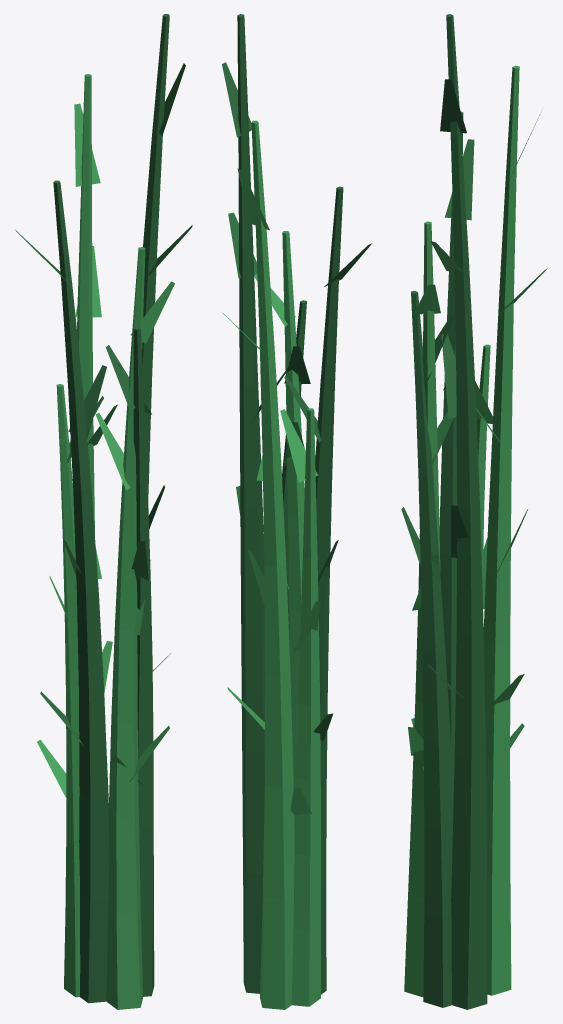
The model's file is kelp.glb.
3 renders of one model, left to right at view 1: azimuth 30°, elevation 25°; view 2: azimuth 150°, elevation 25°; view 3: azimuth 270°, elevation 25°, orthographic. The views are drawn at different scales.
Visible parts, largest first — view 1: Kelp; view 2: Kelp; view 3: Kelp.
Boxes of the visible parts, box(x1,y1,x2,y2) form: Kelp: box(15, 14, 192, 1009); Kelp: box(222, 14, 372, 1009); Kelp: box(401, 14, 547, 1009).
Bounding box in the file's own units: 0.6982 × 4 × 0.5338.
